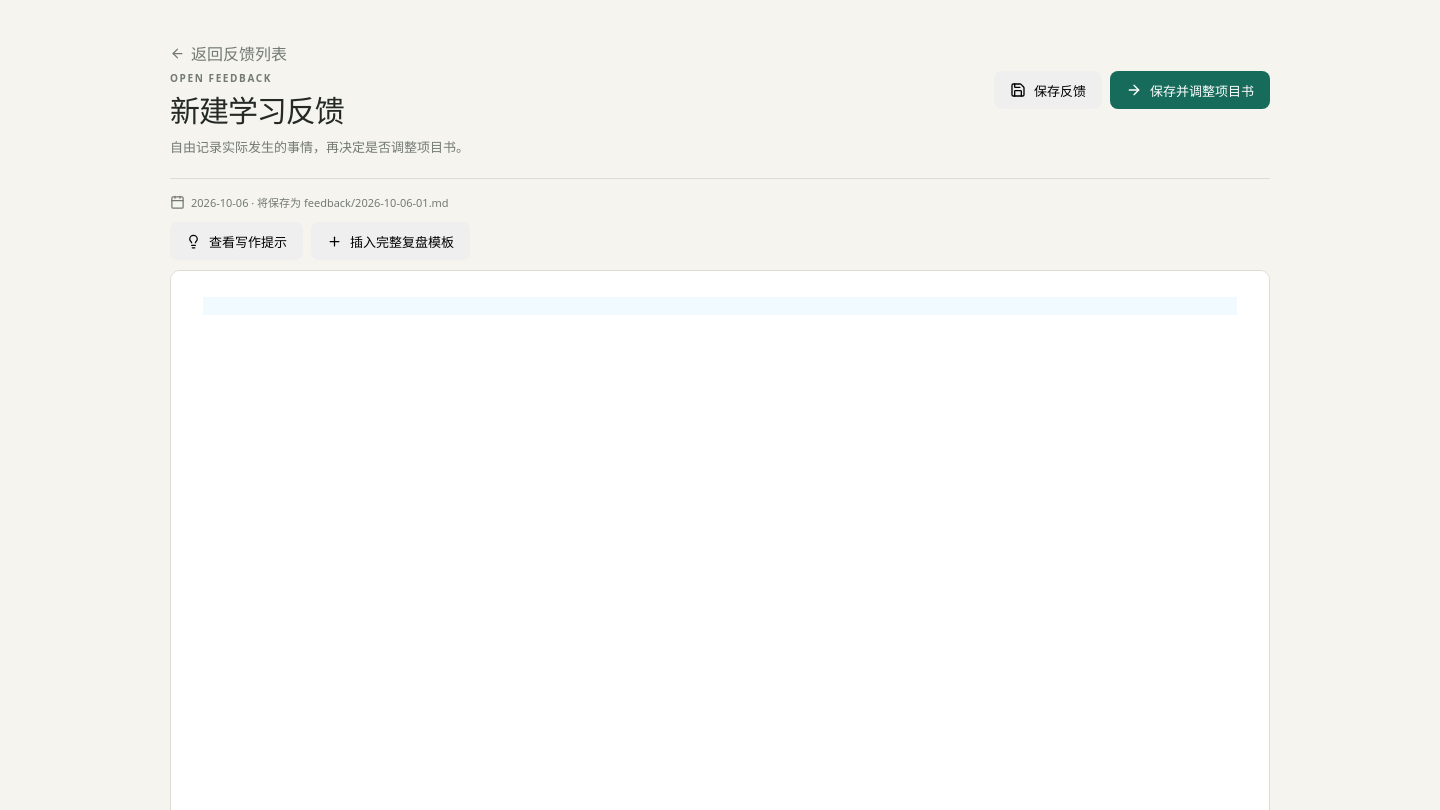
Test: FeedbackWorkspace › imports a local Markdown template and reports its copied project path
This screenshot has width=1440, height=810.
Click the button "插入完整复盘模板" at (390, 241), box [311,222,470,260]
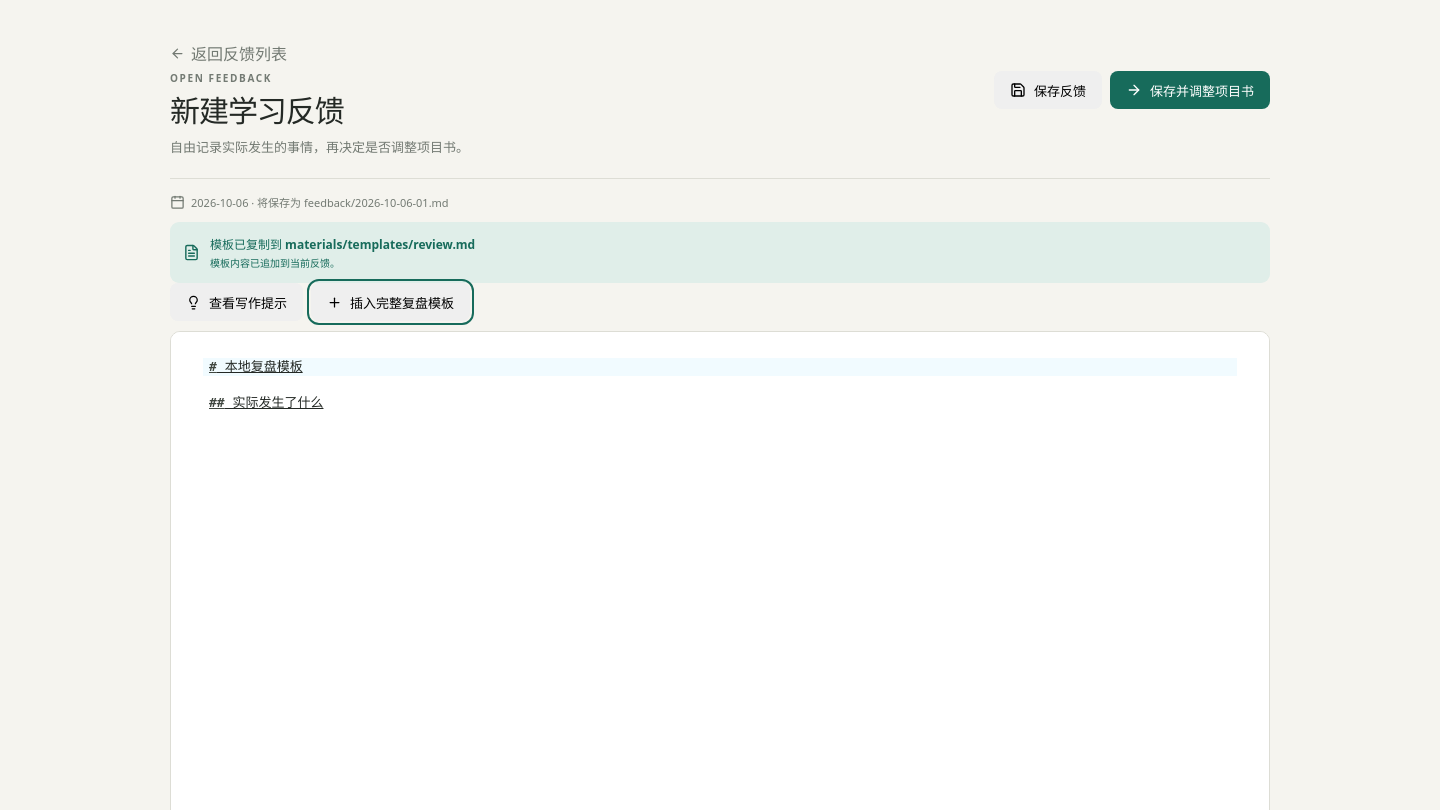
Now the field shows "本地复盘模板", box [203,358,1237,410]
Now the text "模板已复制到 materials/templates/review.md" is shown, box [210,236,475,253]
